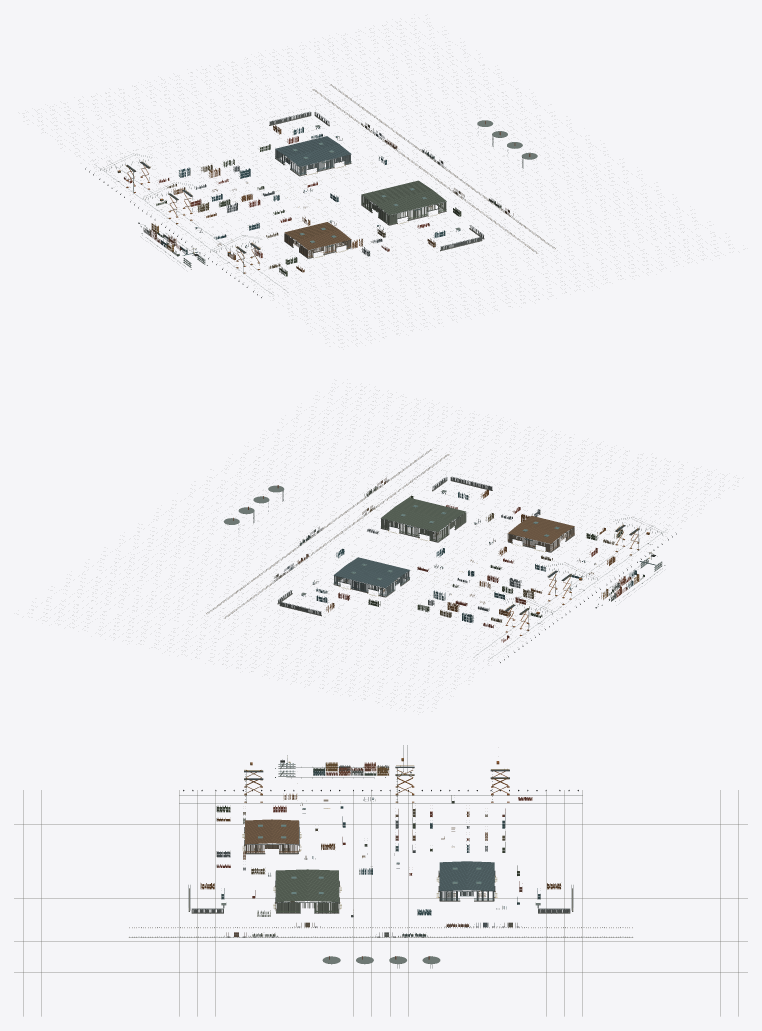
File: detail.glb
3 views of the same model, one above another, from view 1: azimuth 30°, elevation 25°; view 2: azimuth 150°, elevation 25°; view 3: azimuth 270°, elevation 25° (orthographic). The views are drawn at different scales.
Visible parts, largest first — view 1: S1_0_metal_0, S0_-2_metal_0, S-1_1_metal_0, S-1_1_painted_0; view 2: S1_0_metal_0, S0_-2_metal_0, S-1_1_metal_0, S-1_-2_painted_0, S0_-2_painted_0; view 3: S1_0_metal_0, S0_-2_metal_0, S-1_1_metal_0, S-3_0_painted_0, S-1_1_painted_0, S-2_1_painted_0.
Part boxes in pixels (x1=…): S1_0_metal_0: x1=361, y1=172, x2=470, y2=223; S0_-2_metal_0: x1=275, y1=136, x2=351, y2=174; S-1_1_metal_0: x1=284, y1=222, x2=351, y2=257; S-1_1_painted_0: x1=284, y1=233, x2=370, y2=257; S1_0_metal_0: x1=337, y1=497, x2=465, y2=540; S0_-2_metal_0: x1=333, y1=557, x2=409, y2=596; S-1_1_metal_0: x1=507, y1=515, x2=574, y2=551; S-1_-2_painted_0: x1=417, y1=590, x2=489, y2=622; S0_-2_painted_0: x1=338, y1=577, x2=400, y2=606; S1_0_metal_0: x1=275, y1=869, x2=379, y2=927; S0_-2_metal_0: x1=438, y1=861, x2=495, y2=897; S-1_1_metal_0: x1=244, y1=819, x2=300, y2=853; S-3_0_painted_0: x1=275, y1=755, x2=411, y2=778; S-1_1_painted_0: x1=216, y1=821, x2=299, y2=859; S-2_1_painted_0: x1=216, y1=762, x2=297, y2=823.
Size of the model in its own units: 504 by 43.63 by 640.
